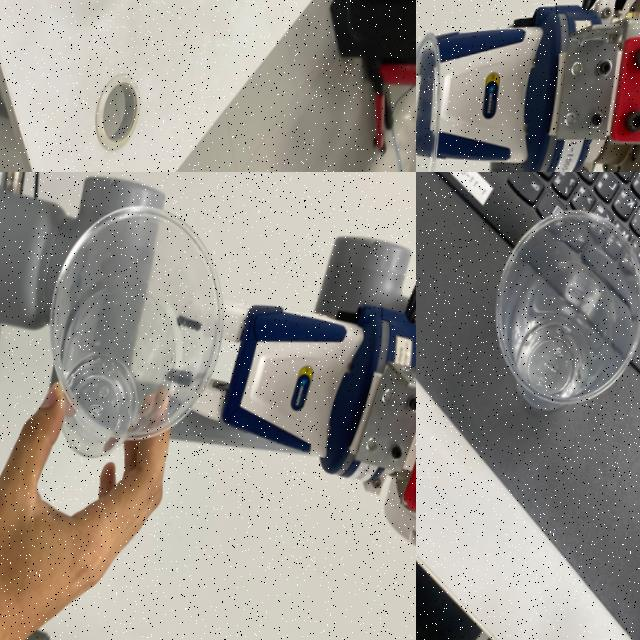glass: (50, 189, 231, 476), (481, 200, 640, 430)
